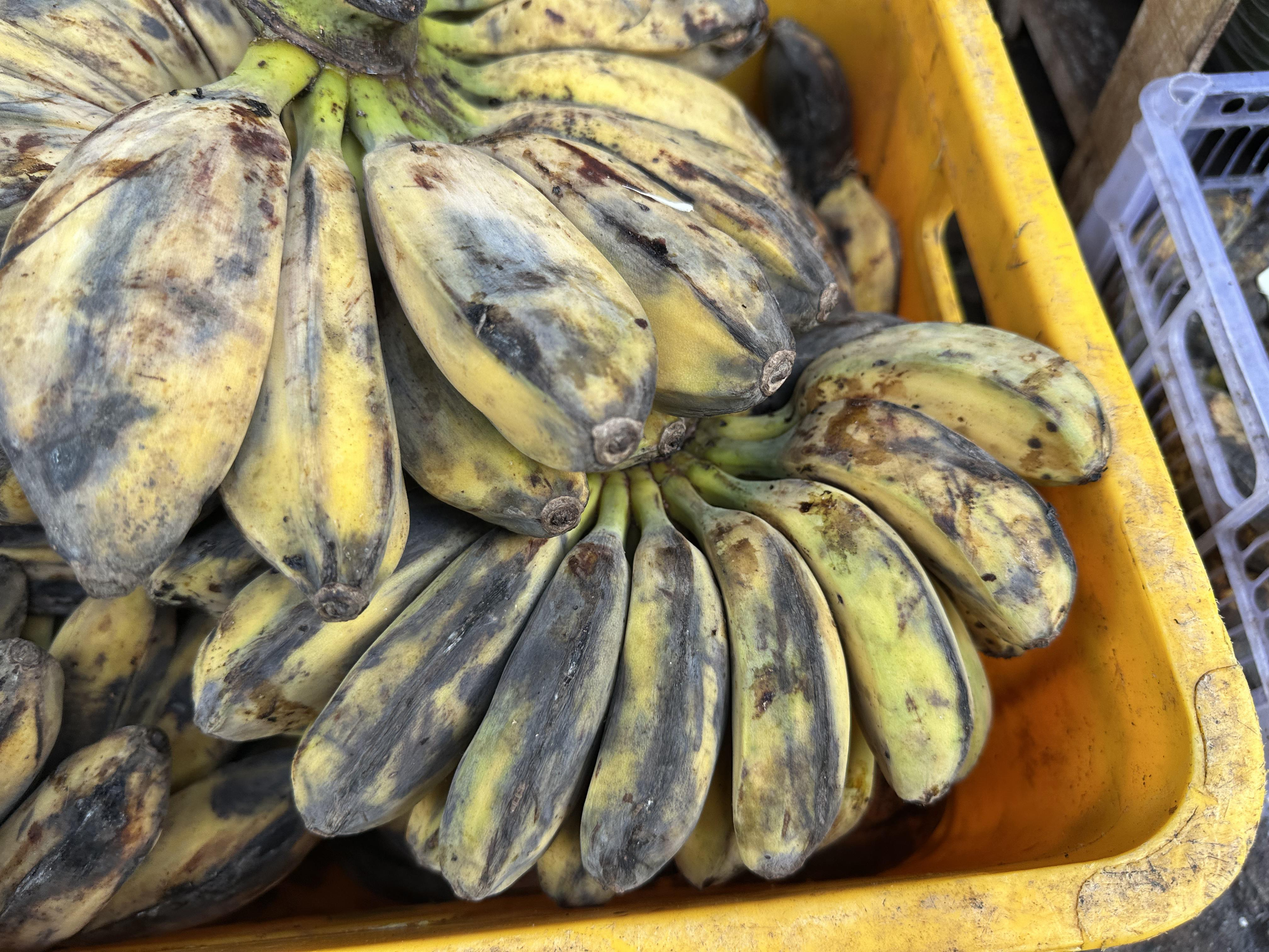ripe: (0, 0, 838, 620), (0, 586, 315, 950), (0, 0, 259, 244)
underripe: (150, 314, 1111, 904)
